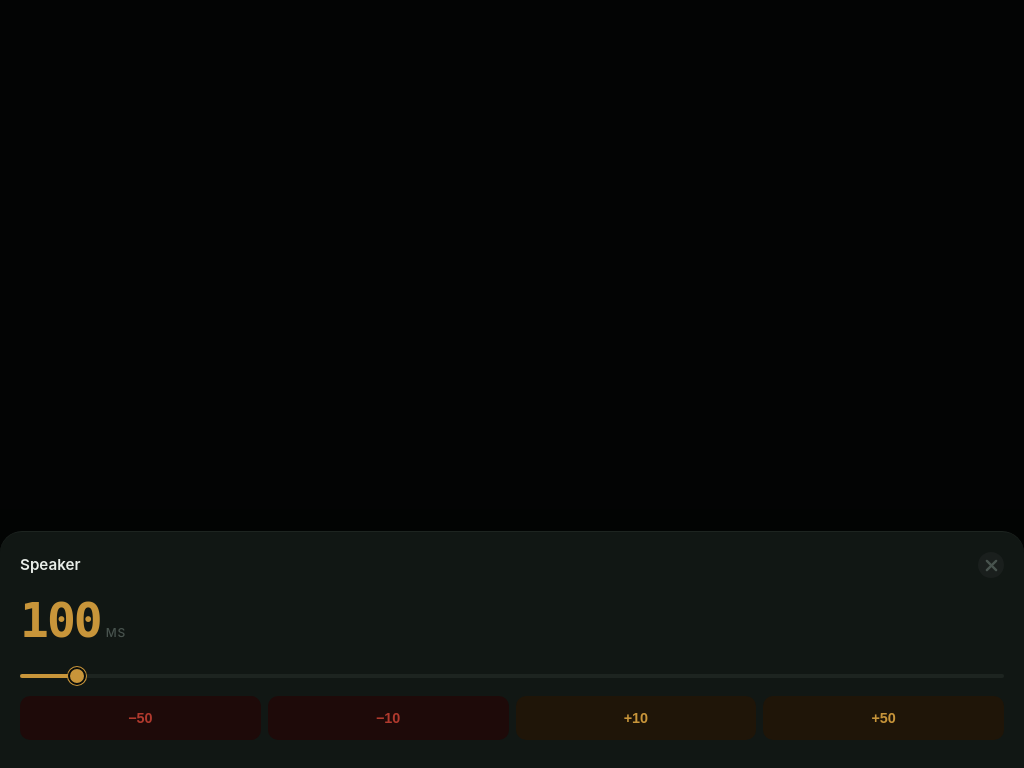
Test: DelaySheet › ±10 buttons adjust the delay correctly
Click the button with class "btn-dec" showing "−10" at (388, 718), box [268,696,509,740]
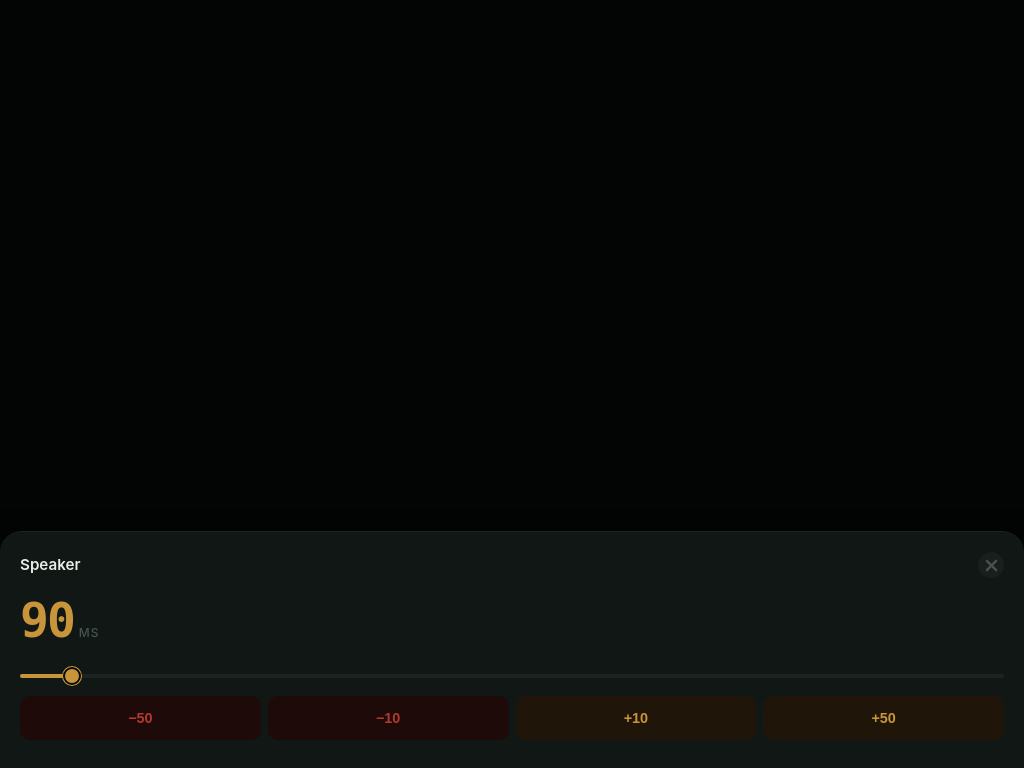
Now the text "90" is shown, box [20,596,74,644]
Click the button with class "btn-inc" showing "+10" at (636, 718), box [516,696,756,740]
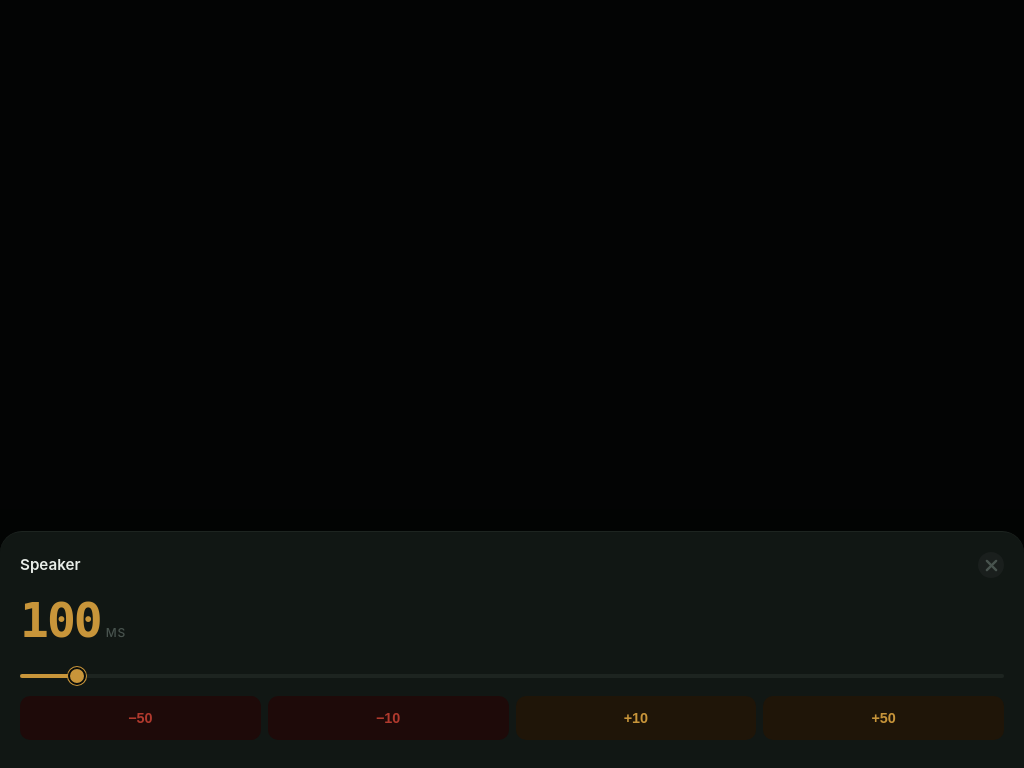
Now the text "100" is shown, box [20,596,101,644]
